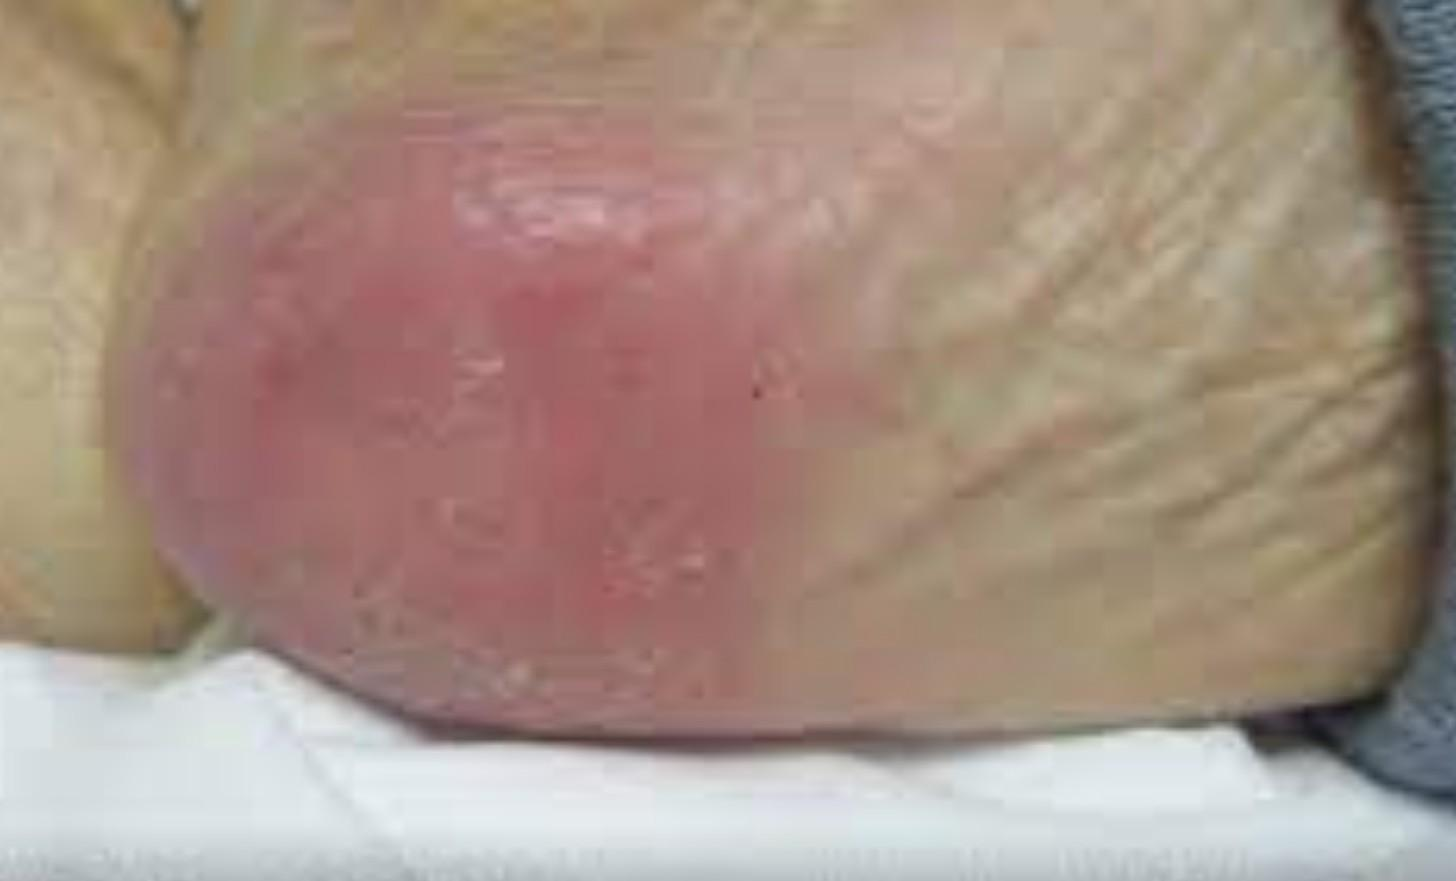Stage1: (213, 121, 877, 736)
